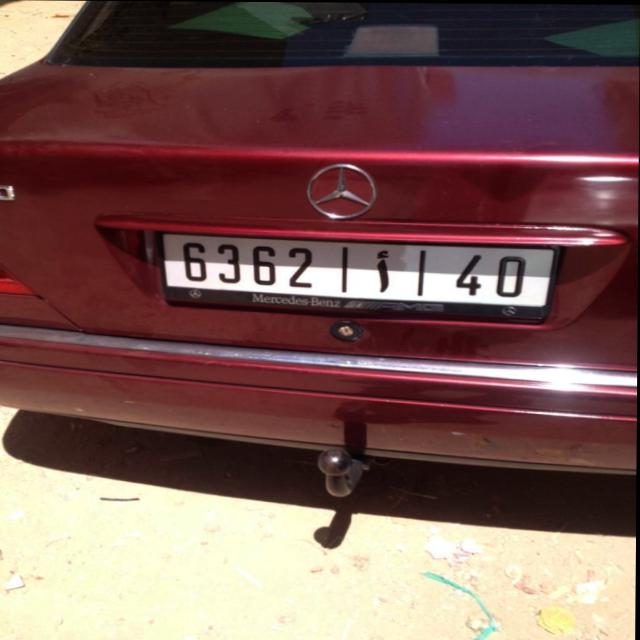License-Plate: (164, 234, 554, 306)
